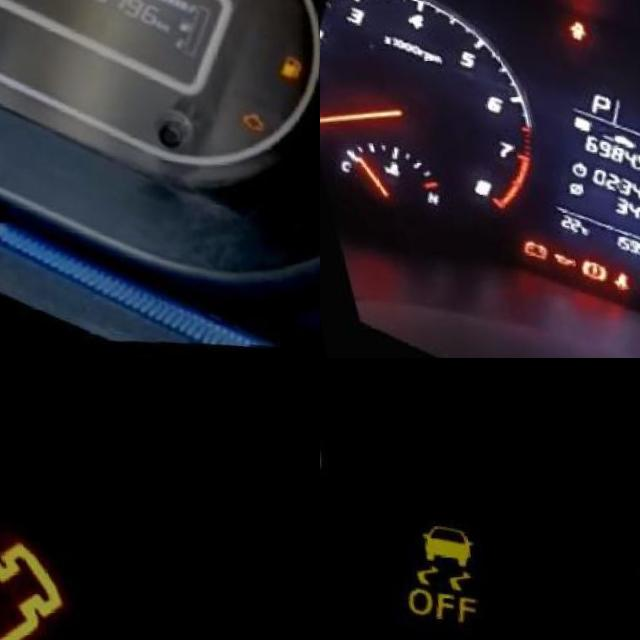High Engine Coolant Temperature: (363, 156, 391, 181)
Low fuel level: (254, 60, 291, 97)
Seat Belt: (586, 268, 612, 294)
